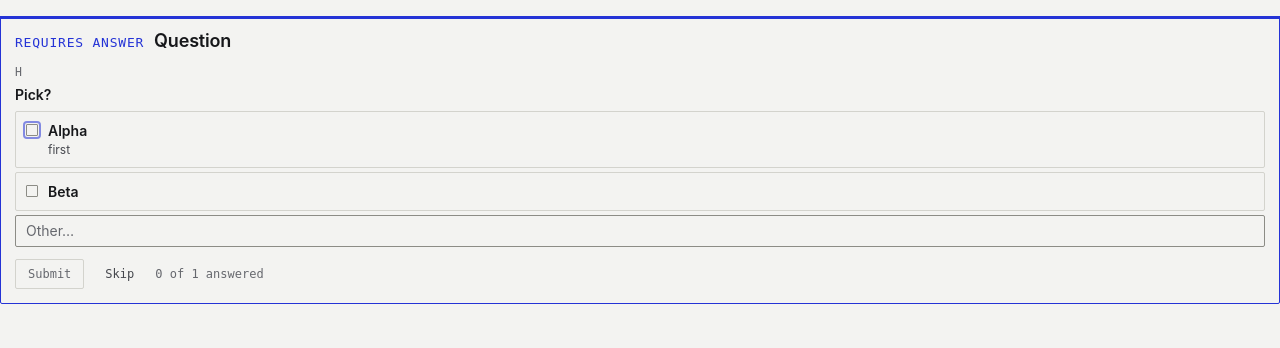
Test: RequestCard pending and failure › reports a thrown failure too
Click the radio button labelled "Alpha first" at [32, 130], box [26,124,38,136]
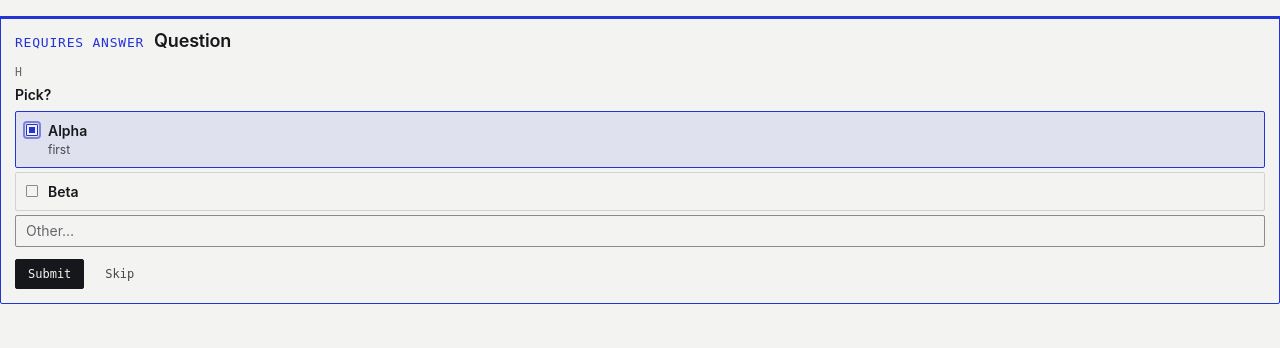
Click the button "Submit" at [50, 274], box [15,259,84,289]
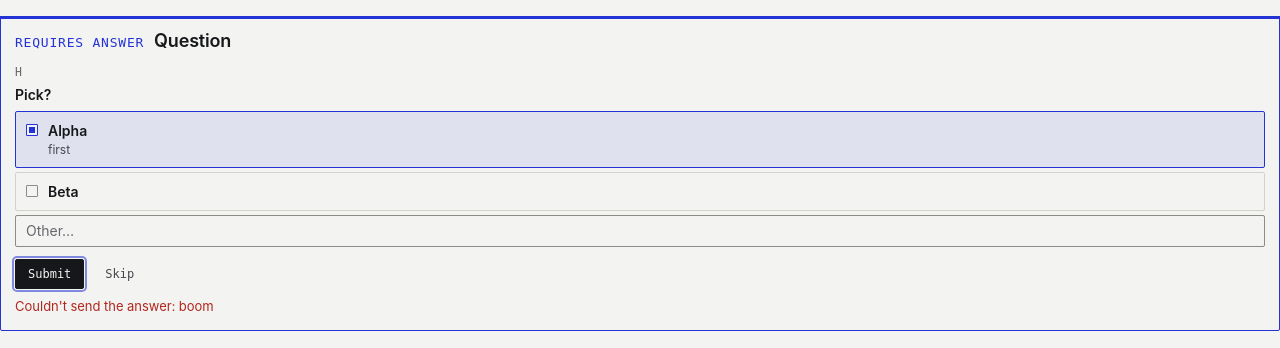
Expected: the button "Submit" is enabled, [15,259,84,289]
Expected: the text "Couldn't send the answer: boom" is shown, [15,298,214,314]
